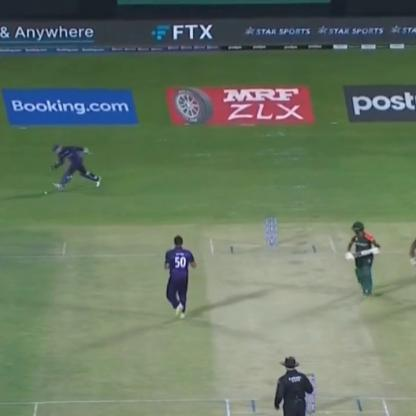ball: (40, 189, 53, 198)
pitch: (194, 218, 398, 415)
